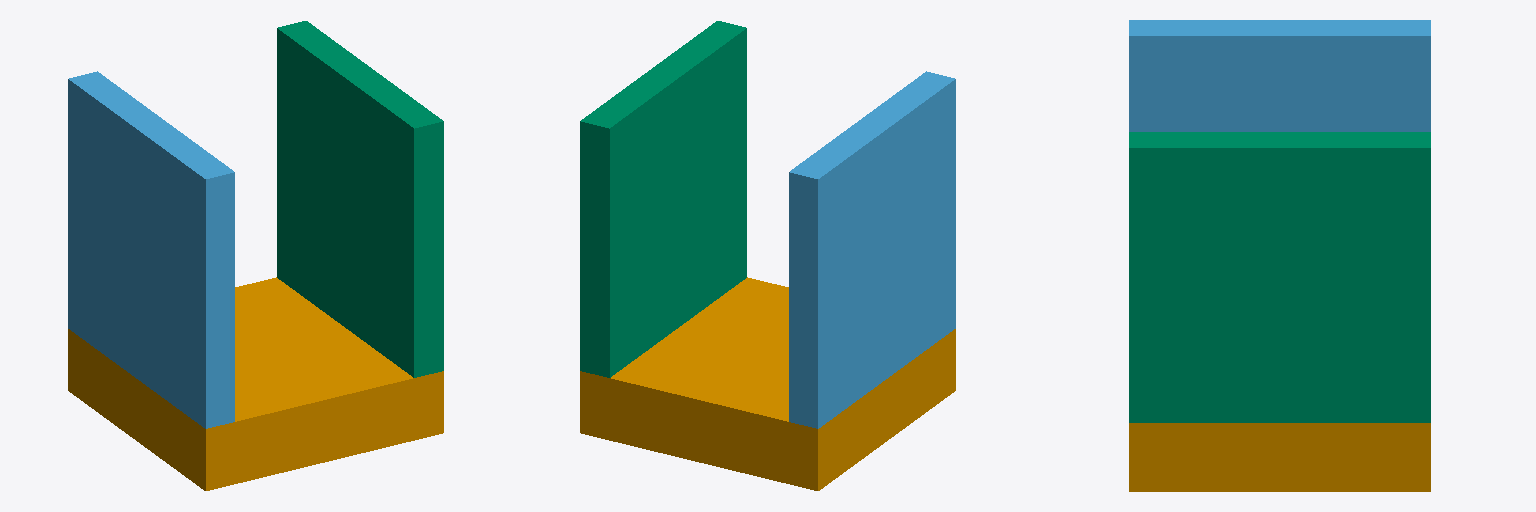
URDF robot description (my_gripper):
<?xml version="1.0"?>
<robot name="my_gripper">
  <link name="base_link">
    <visual>
      <geometry>
        <box size ="0.4 .4 .1"/>
      </geometry>
      <origin rpy="0 0 0" xyz="0 0 0.05"/>
    </visual>
  </link>

  <link name="left_gripper">
    <visual>
      <geometry>
        <box size="0.05 0.4 0.4"/>
      </geometry>
      <origin rpy="0 0 0" xyz="0.025 0 0.2"/>
    </visual>
  </link>

  <joint name="j_left" type="fixed">
    <parent link="base_link"/>
    <child link="left_gripper"/>
    <origin xyz="-0.2 0 0.1"/>
  </joint>

    <link name="right_gripper">
    <visual>
      <geometry>
        <box size="0.05 0.4 0.4"/>
      </geometry>
      <origin rpy="0 0 0" xyz="-0.025 0 0.2"/>
    </visual>
  </link>

  <joint name="j_right" type="fixed">
    <parent link="base_link"/>
    <child link="right_gripper"/>
    <origin xyz="0.2 0 0.1"/>
  </joint>

</robot>

--- What the picture shows (computed from the rendered views, not written in the file) ---
3 views of the same robot in one strip: view 1: azimuth 30°, elevation 25°; view 2: azimuth 150°, elevation 25°; view 3: azimuth 270°, elevation 25° (orthographic).
Robot: my_gripper — 3 links, 2 joints (2 fixed); root link base_link; default pose: all joints at 0.
Visible links, largest first — view 1: right_gripper, left_gripper, base_link; view 2: right_gripper, left_gripper, base_link; view 3: right_gripper, left_gripper, base_link.
Link boxes in pixels (x1,y1,x2,y2): right_gripper: [277, 21, 443, 377]; left_gripper: [68, 71, 234, 428]; base_link: [68, 277, 443, 490]; right_gripper: [580, 21, 746, 377]; left_gripper: [789, 71, 955, 428]; base_link: [580, 277, 955, 490]; right_gripper: [1129, 132, 1430, 422]; left_gripper: [1129, 20, 1430, 131]; base_link: [1129, 423, 1430, 491].
Bounding box of the posed robot: 0.4 × 0.4 × 0.5 m (x, y, z).
Geometry: primitives only (box / cylinder / sphere), no mesh files.